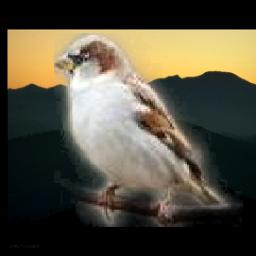Sparrow: (54, 34, 243, 228)
